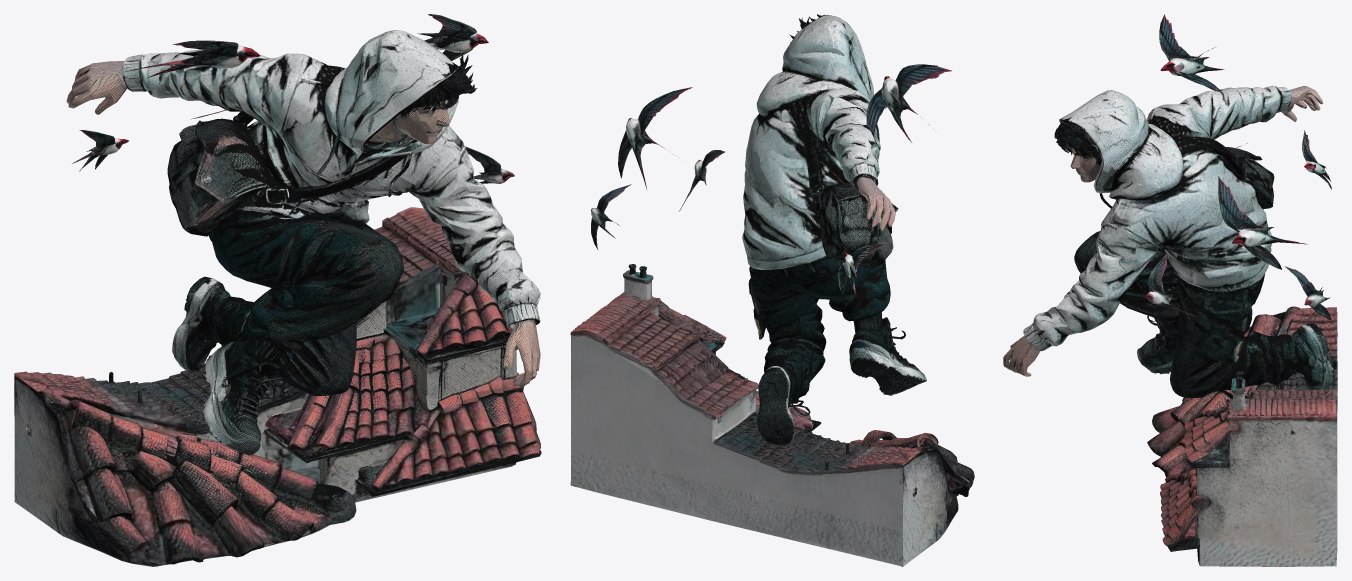
3 renders of one model, left to right at view 1: azimuth 30°, elevation 25°; view 2: azimuth 150°, elevation 25°; view 3: azimuth 270°, elevation 25°, orthographic. The views are drawn at different scales.
Bounding box in the file's own units: 1.63 × 1.9 × 1.39.
1 material, 1 textured.
